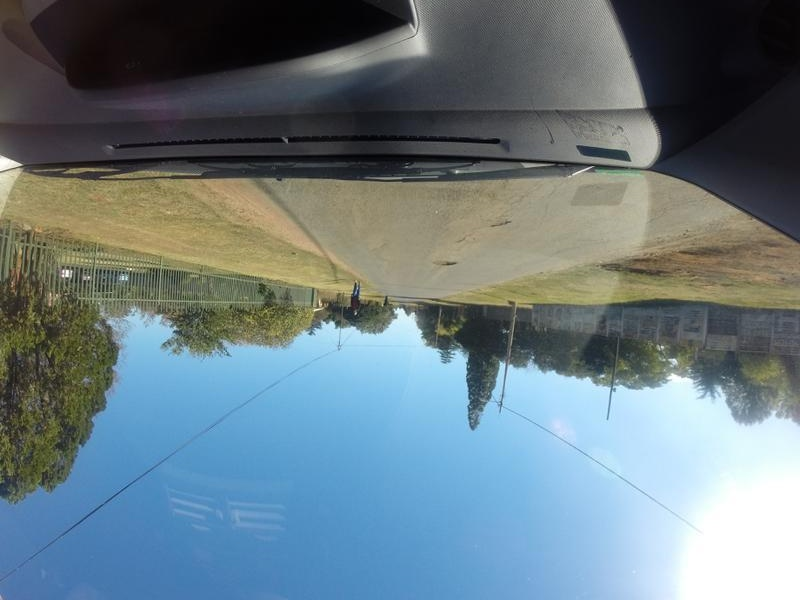pothole: (680, 238, 738, 260), (613, 259, 677, 276), (489, 211, 522, 236), (431, 256, 460, 270)
